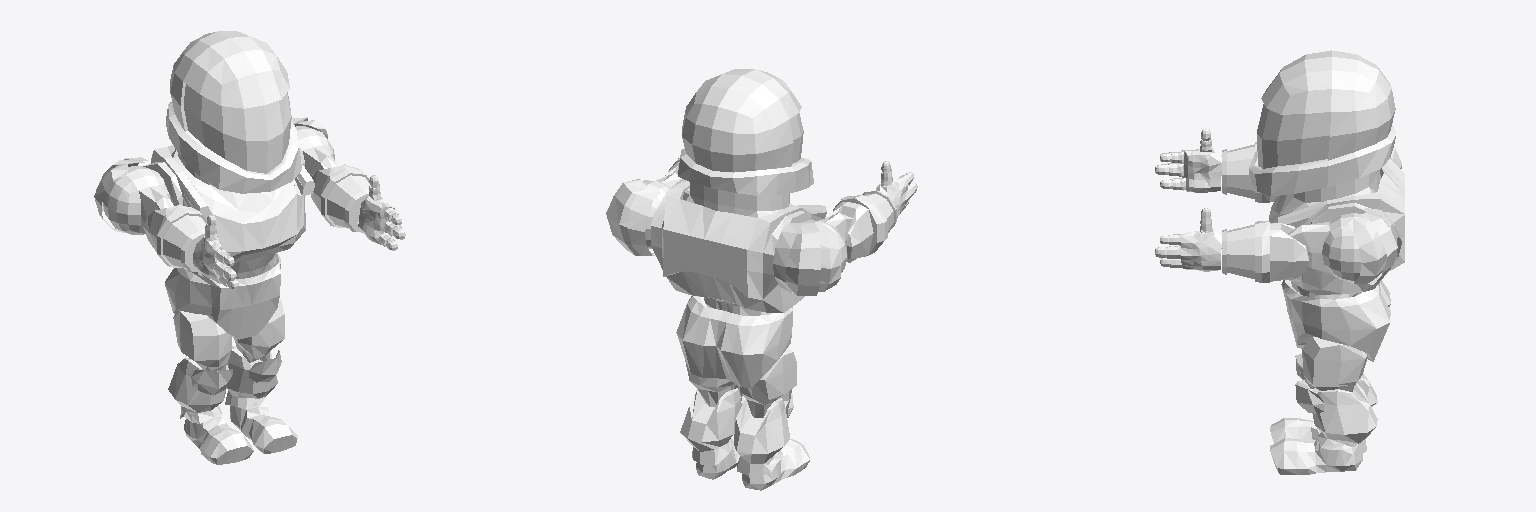
File: HeroCombined.obj
3 renders of one model, left to right at view 1: azimuth 30°, elevation 25°; view 2: azimuth 150°, elevation 25°; view 3: azimuth 270°, elevation 25°, orthographic.
Parts seen in each view (by area): view 1: CharacterModel; view 2: CharacterModel; view 3: CharacterModel.
Part boxes in pixels (x1,y1,x2,y2): CharacterModel: (94, 31, 405, 464); CharacterModel: (606, 69, 917, 490); CharacterModel: (1155, 50, 1404, 474).
Size of the model in its own units: 8.15 by 13.65 by 7.77.